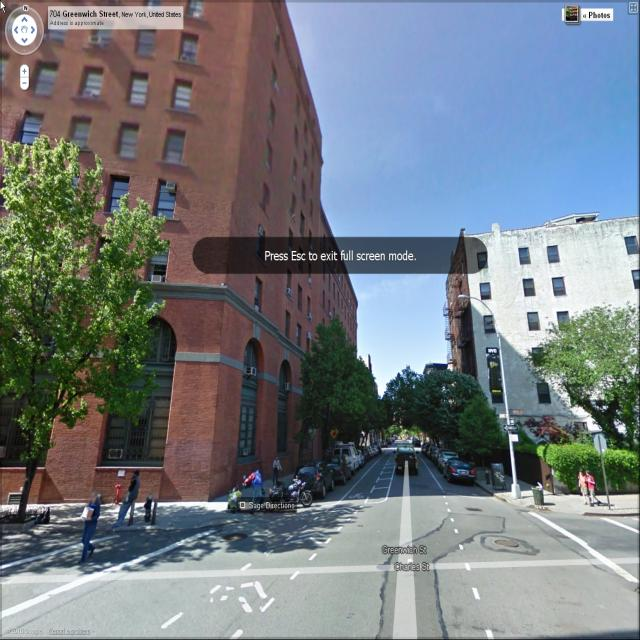b_1: (169, 1, 319, 464), (439, 204, 631, 370)
b_2: (0, 0, 316, 498)
